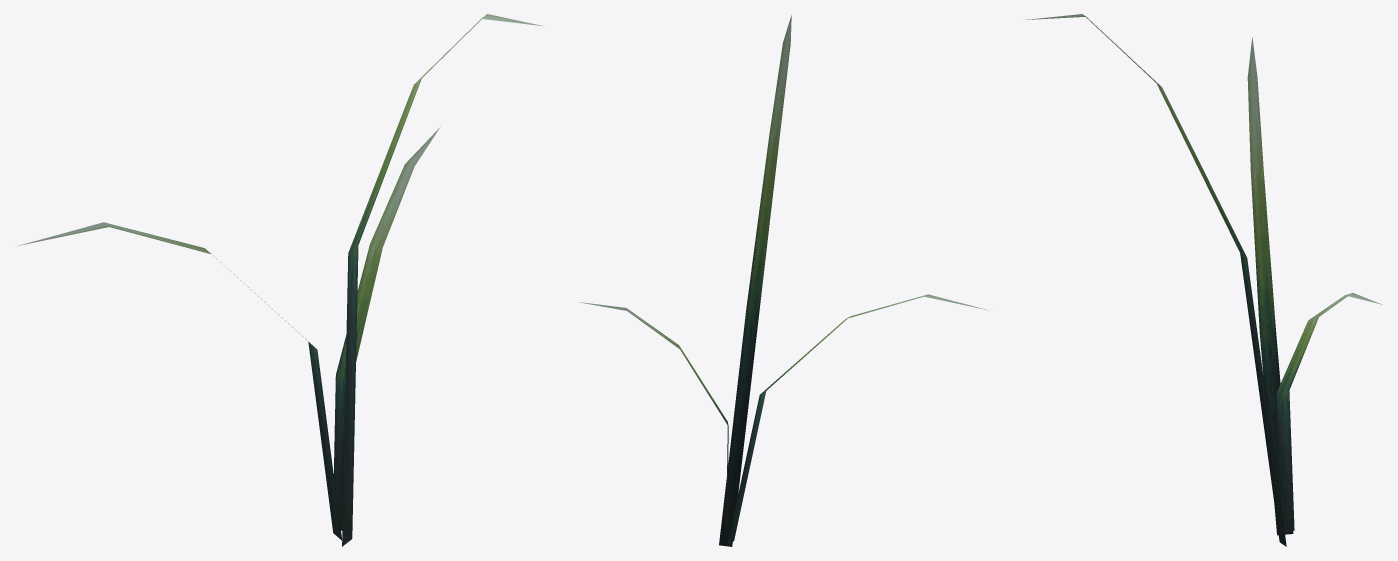
The model's file is swmp_shor_cattail_blue_sm_l0.fbx.
3 renders of one model, left to right at view 1: azimuth 30°, elevation 25°; view 2: azimuth 150°, elevation 25°; view 3: azimuth 270°, elevation 25°, orthographic. The views are drawn at different scales.
Parts seen in each view (by area): view 1: mesh_node; view 2: mesh_node; view 3: mesh_node.
Part boxes in pixels (<box>): mesh_node: <box>18,14,545,546</box>; mesh_node: <box>578,15,990,546</box>; mesh_node: <box>1026,14,1382,546</box>.
Size of the model in its own units: 1.7 by 1.98 by 1.18.
1 material, 1 textured.
